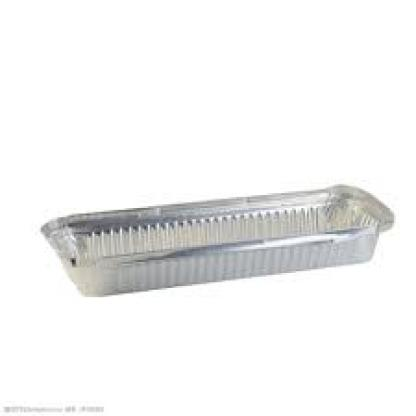METAL: (39, 180, 392, 292)
